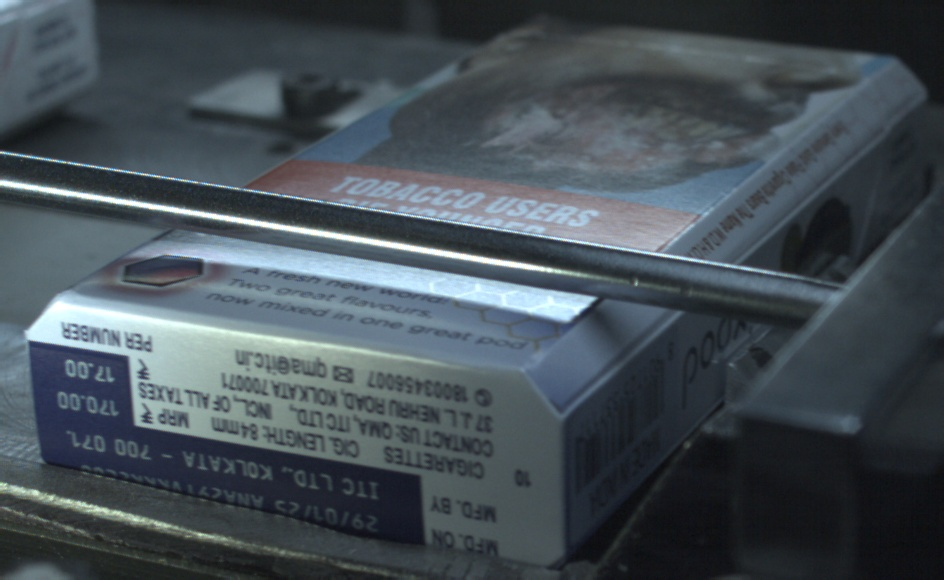g_bottom: (42, 295, 555, 576)
g_label: (62, 354, 390, 536)
g_lmiter: (811, 152, 888, 220), (754, 191, 831, 259), (619, 315, 687, 373), (570, 353, 638, 411)
g_miter: (886, 89, 934, 166)
